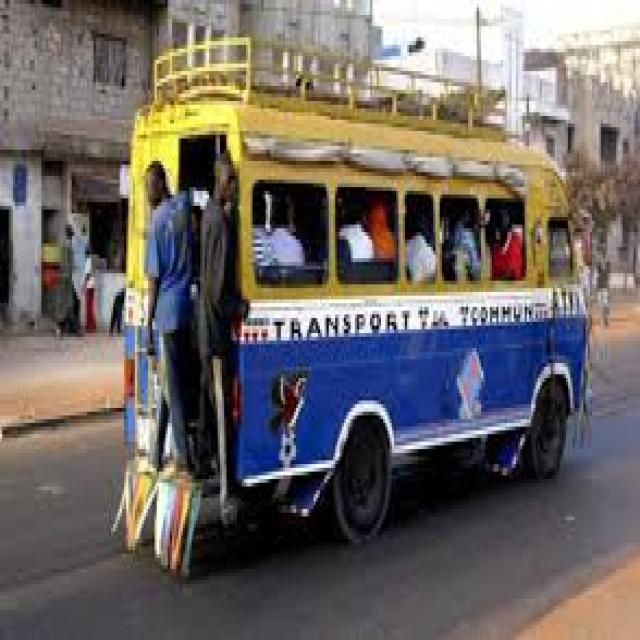car rapide: (126, 40, 590, 540)
